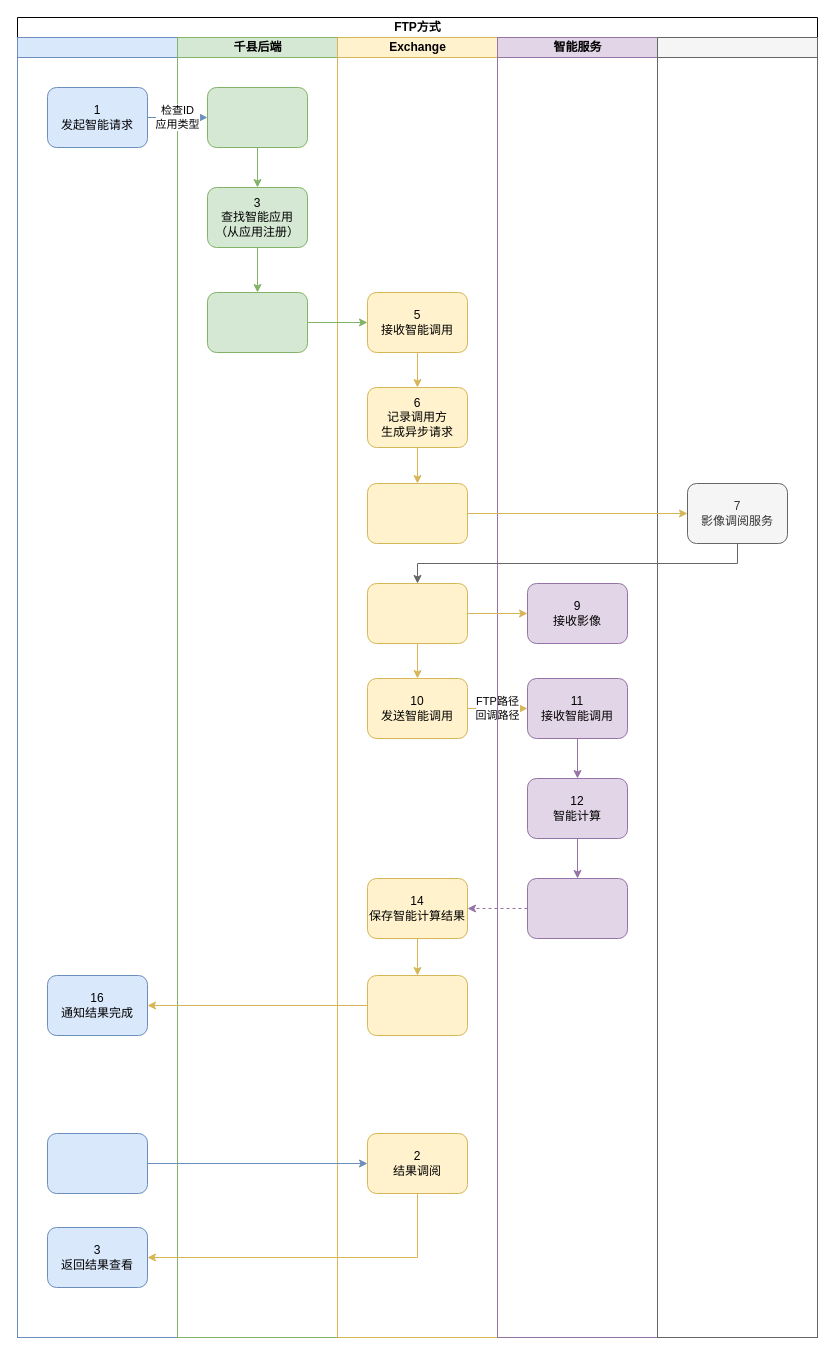
Image size: 835x1355. Some labels were removed from this diagram. The shapes that lost their labels are listed below. From the top down, each one's box as (x1, y1, x2, y2) in pixels, then its label:
(206, 86, 308, 148): 2 接收智能请求
(206, 292, 308, 352): 4 组装智能调用
(366, 482, 468, 544): 6 拉取影像
(366, 582, 468, 644): 8 影像推送 FTP
(16, 36, 178, 1338): Viewer
(656, 36, 818, 1338): Cetus
(526, 878, 628, 938): 13 返回智能计算结果
(366, 974, 468, 1036): 15 查找并通知调用方
(46, 1132, 148, 1194): 1 请求结果查看
